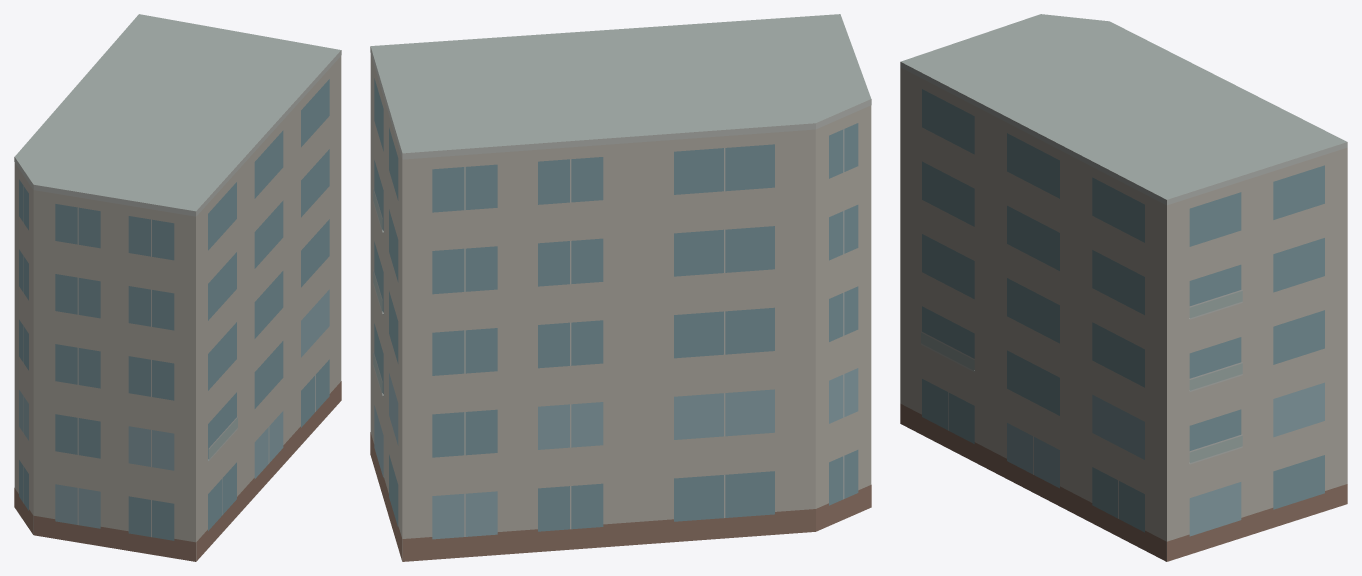
File: survey-upis-33023203.glb
The picture shows the model from 3 angles, left to right: view 1: azimuth 30°, elevation 25°; view 2: azimuth 150°, elevation 25°; view 3: azimuth 270°, elevation 25°; orthographic projection. The views are drawn at different scales.
Parts seen in each view (by area): view 1: survey-upis-33023203.tmp; view 2: survey-upis-33023203.tmp; view 3: survey-upis-33023203.tmp.
Part boxes in pixels (x1,y1,x2,y2): survey-upis-33023203.tmp: (14,14,341,561); survey-upis-33023203.tmp: (370,14,871,561); survey-upis-33023203.tmp: (900,14,1347,561).
Bounding box in the file's own units: 17.57 × 15.95 × 17.86.
